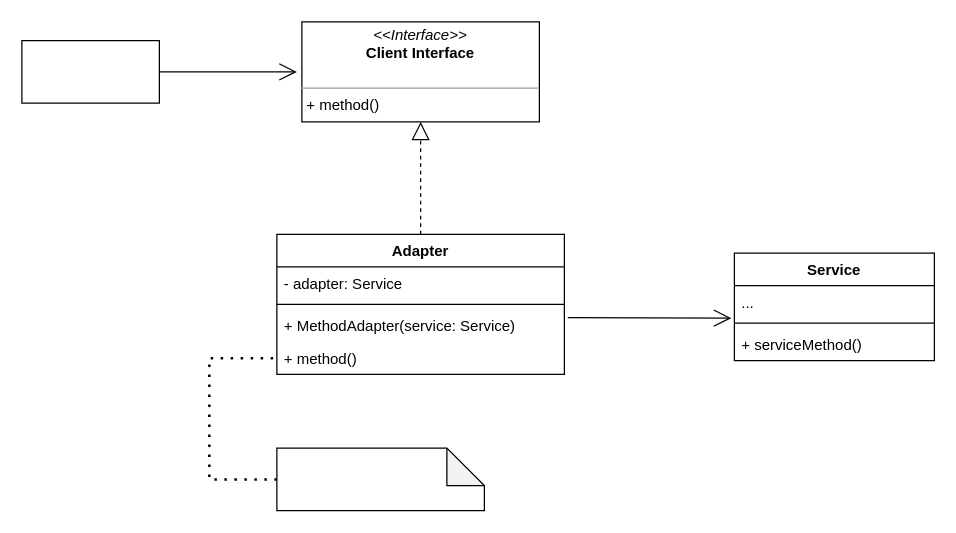
Some shapes in this 956 by 533 pixel diagram are drawn without their labels. Each missing label, with the centre of its shape:
"Client" belongs at point 90,71.
"service. serviceMethod ()" belongs at point 380,479.
